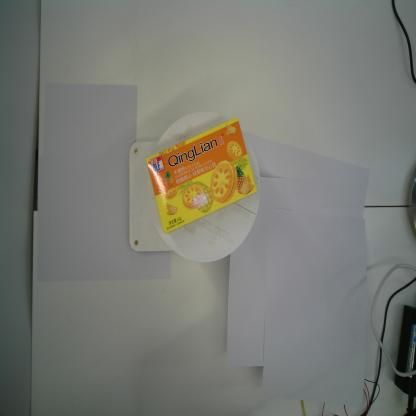Dessert: (144, 115, 258, 235)
